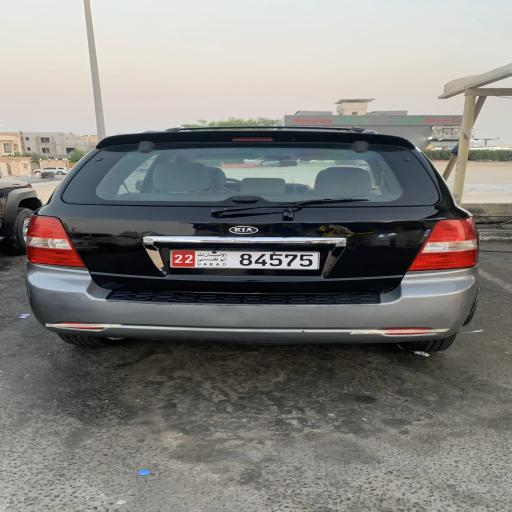license-plates: (170, 250, 319, 269)
